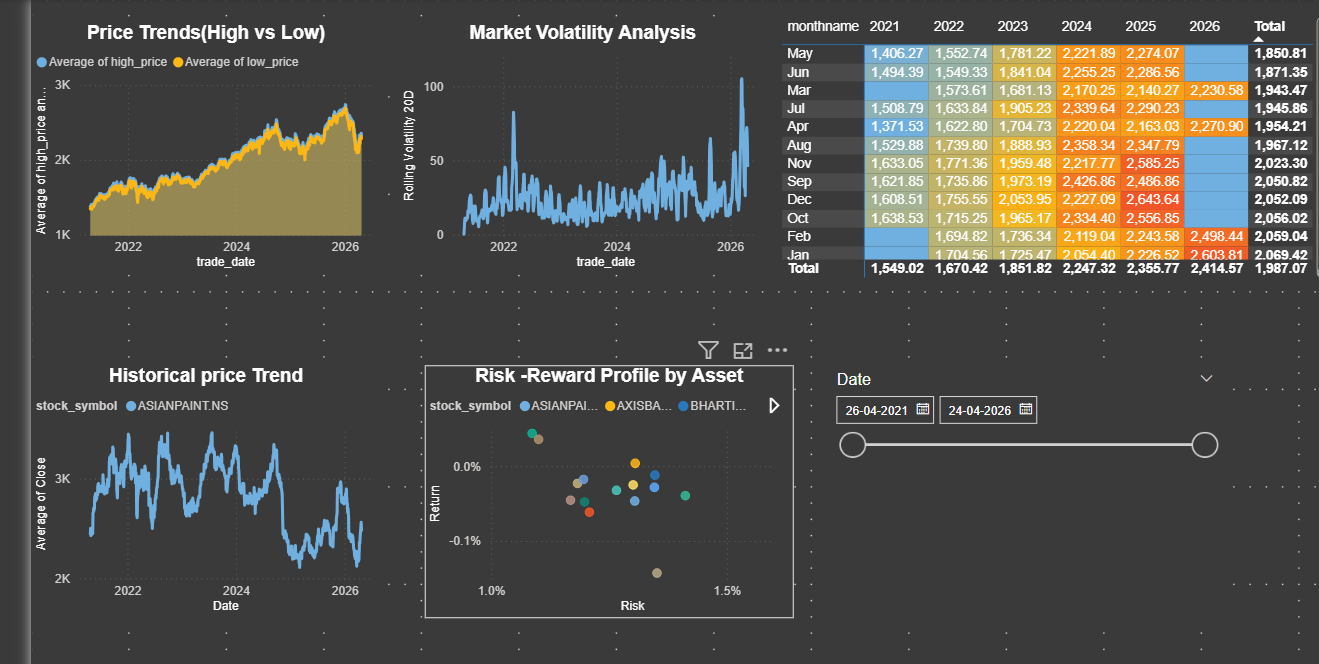

The page's visual inventory and layout, read from the dashboard file:
{"tool":"powerbi","page":{"name":"Page 6","canvas":[1280,720],"ordinal":2},"visuals":[{"type":"areaChart","title":"Price Trends(High vs Low)","fields":{"Category":["multiple_stocks.trade_date"],"Y":["Avg(multiple_stocks.high_price)","Avg(multiple_stocks.low_price)"]},"box":[0,22.2,344.6,248.6],"z":0},{"type":"pivotTable","fields":{"Rows":["multiple_stocks.monthname"],"Columns":["multiple_stocks.year"],"Values":["Avg(multiple_stocks.close_price)"]},"box":[734.8,13.5,545.2,265.8],"z":1000},{"type":"lineChart","title":"Market Volatility Analysis","fields":{"Category":["multiple_stocks.trade_date"],"Y":["multiple_stocks.Rolling Volatility 20D"]},"box":[361.8,22.2,363.1,248.6],"z":2000},{"type":"lineChart","title":"Historical price Trend","fields":{"Category":["predicted_stock.Date"],"Y":["Avg(predicted_stock.Close)"],"Series":["predicted_stock.stock_symbol"]},"box":[0,360.6,344.6,248.6],"z":3000},{"type":"scatterChart","title":"Risk -Reward Profile by Asset","fields":{"X":["multiple_stocks.Risk"],"Y":["multiple_stocks.Return"],"Series":["multiple_stocks.stock_symbol"]},"box":[387.7,360.6,363.1,248.6],"z":4000},{"type":"slicer","fields":{"Values":["predicted_stock.Date"]},"box":[780.3,360.6,396.3,248.6],"z":5000}]}

Visuals, with their boxes on the page's 1280x720 design canvas (x1, y1, x2, y2). These are canvas units, not pixel positions in the 1319x664 screenshot, which may show the page scaled, cropped or inside an application window:
"Price Trends(High vs Low)" areaChart: 0/22/345/271
pivotTable - multiple_stocks.monthname x multiple_stocks.year: 735/14/1280/279
"Market Volatility Analysis" lineChart: 362/22/725/271
"Historical price Trend" lineChart: 0/361/345/609
"Risk -Reward Profile by Asset" scatterChart: 388/361/751/609
slicer - predicted_stock.Date: 780/361/1177/609
